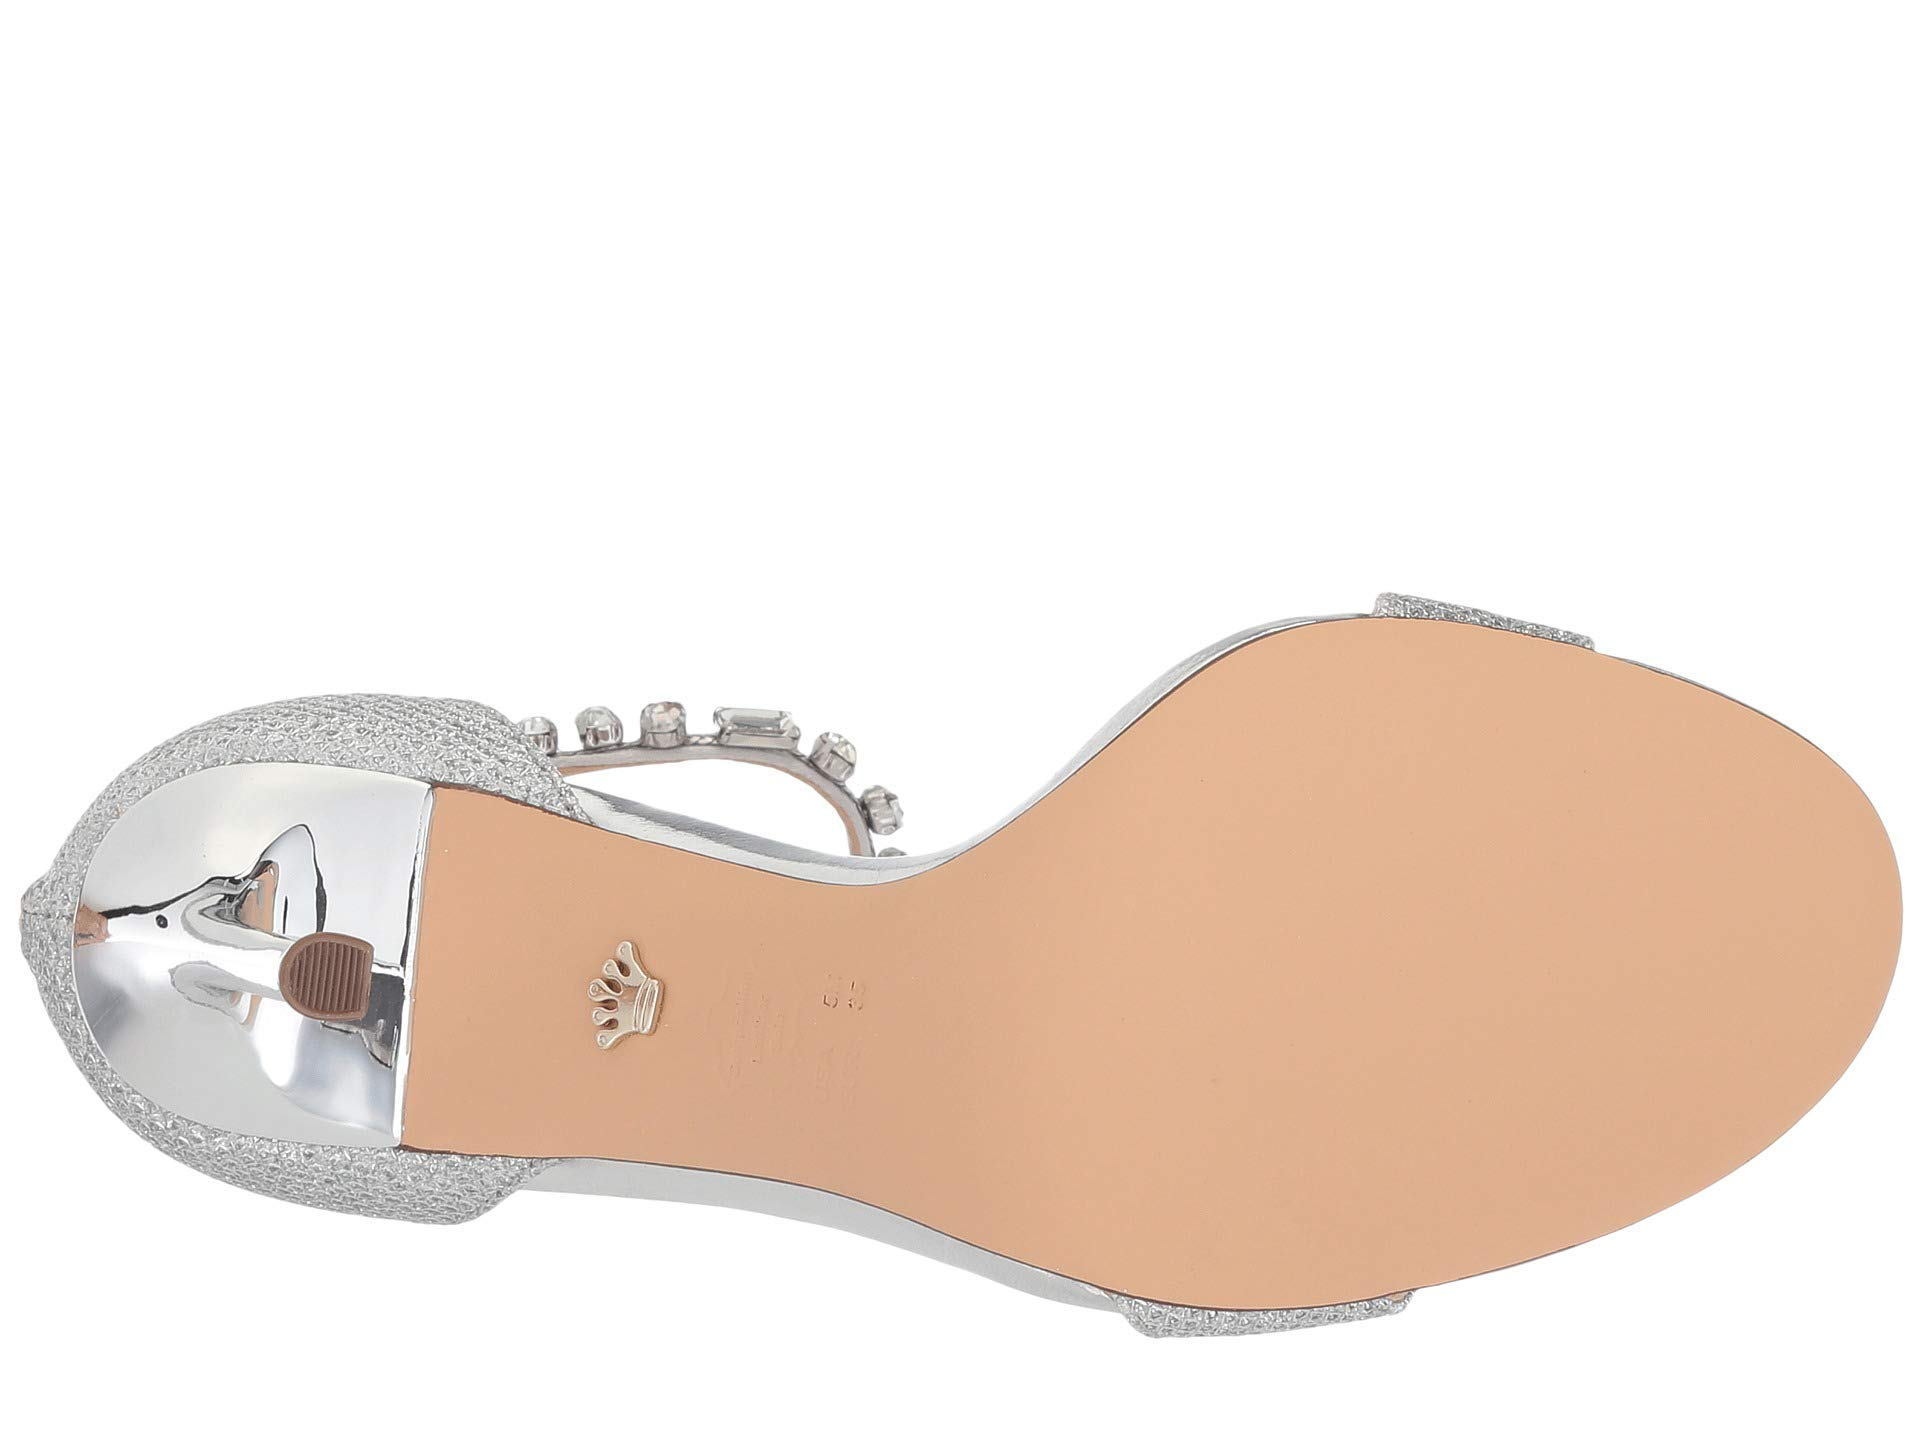exclude: (373, 635, 1113, 1331), (5, 597, 491, 942), (11, 865, 299, 1255), (204, 1012, 469, 1265)
line: (308, 945, 370, 1010)
